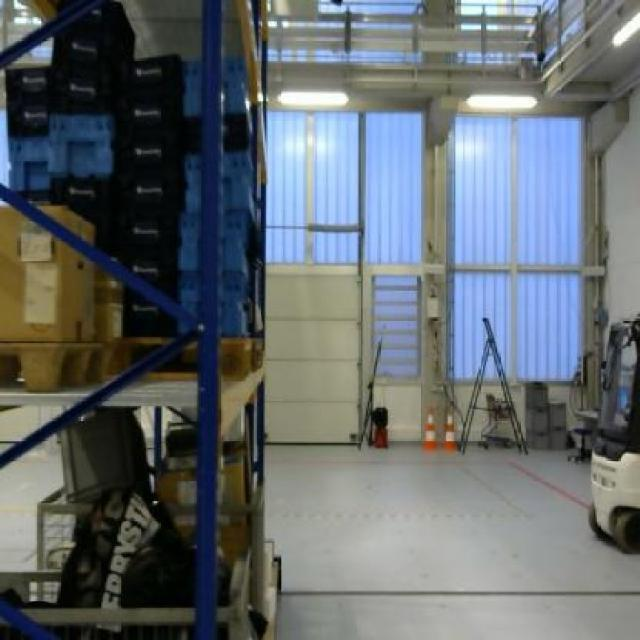box: (1, 206, 94, 342)
